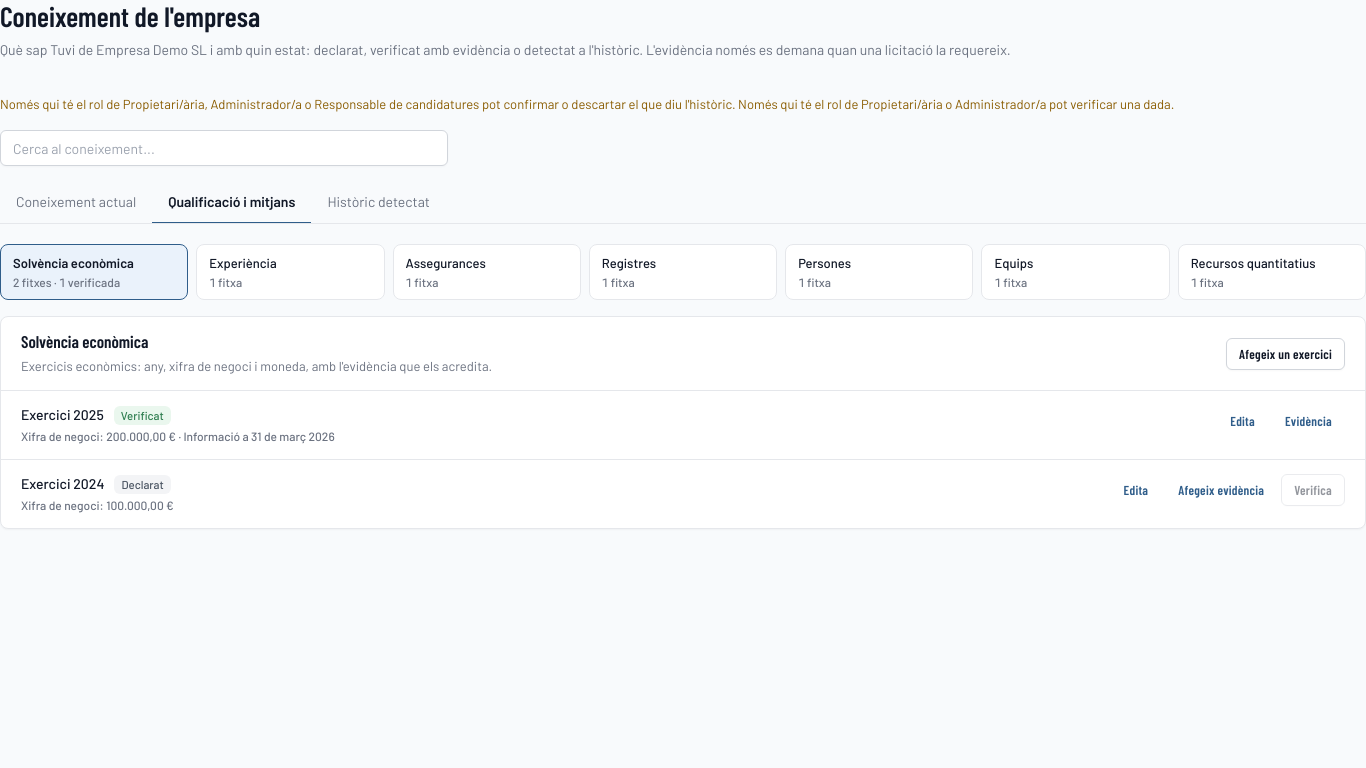
Test: Qualificació i mitjans: permisos (la UI no és la seguretat, però no ofereix el que no es pot fer) › tècnic/a: edita però no elimina ni verifica
Expected: the navigation bar named "Seccions de qualificació i mitjans" is shown, [0,244,1365,300]
Expected: the button "Verifica" is disabled, [1281,474,1345,506]
What coordinates should you click on to do the following:
click the button with aria-label "Edita l'exercici 2024"
I would click on:
 (1136, 490)
Its box is [1111,474,1161,506].
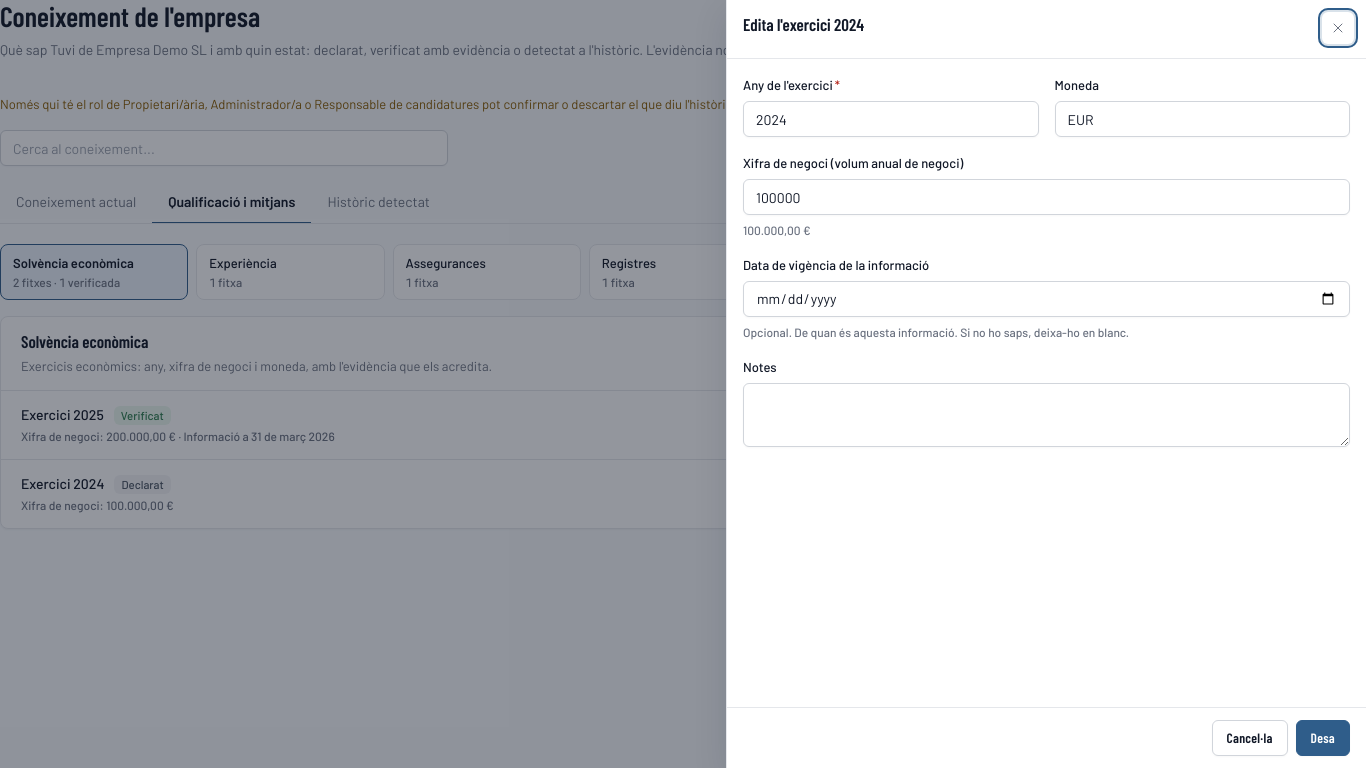
Expected: the button "Desa" is shown, [1296,720,1350,756]
